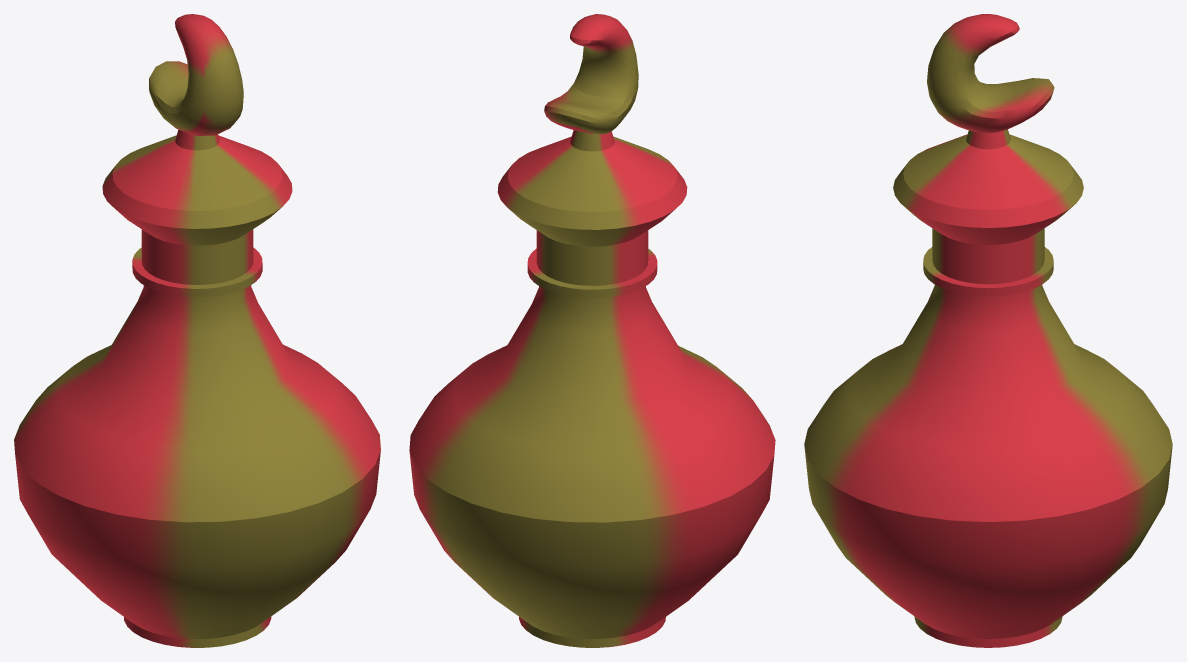
The model's file is POCIÓN.fbx.
3 renders of one model, left to right at view 1: azimuth 30°, elevation 25°; view 2: azimuth 150°, elevation 25°; view 3: azimuth 270°, elevation 25°, orthographic.
Visible parts, largest first — view 1: Cube; view 2: Cube; view 3: Cube.
Boxes of the visible parts, left/top/right/bottom form: Cube: left=14, top=14, right=380, bottom=647; Cube: left=409, top=14, right=775, bottom=647; Cube: left=804, top=14, right=1172, bottom=647.
Bounding box in the file's own units: 497 × 893 × 497.
1 material, 1 textured.
